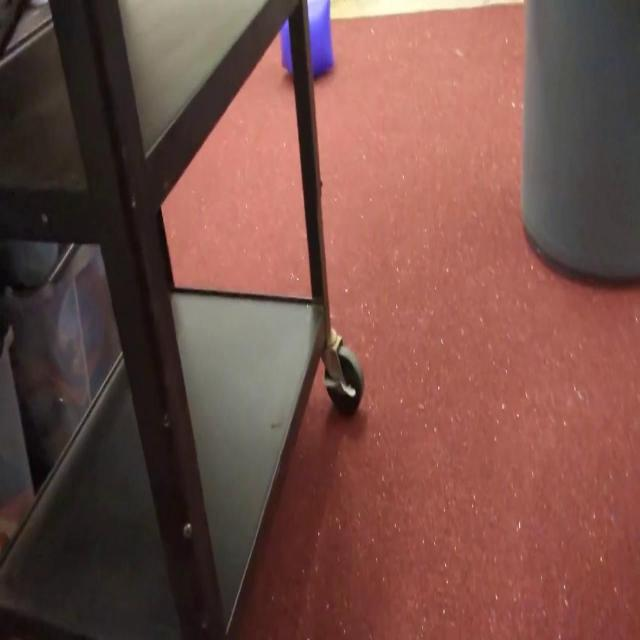frc_cube: (279, 0, 335, 79)
